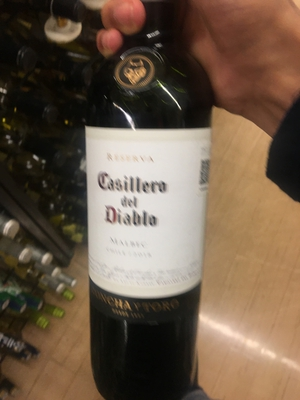casillero del diablo malbec: (73, 31, 215, 400)
